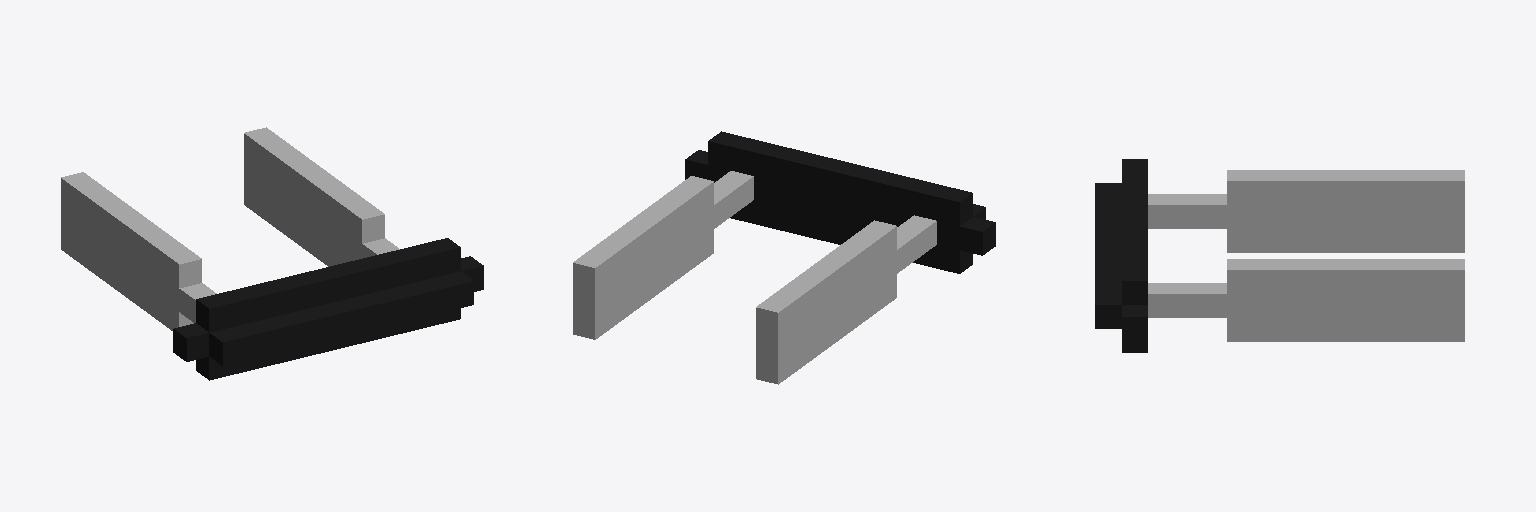
3 renders of one model, left to right at view 1: azimuth 30°, elevation 25°; view 2: azimuth 150°, elevation 25°; view 3: azimuth 270°, elevation 25°, orthographic.
Visible parts, largest first — view 1: object 1; view 2: object 1; view 3: object 1.
Boxes of the visible parts, box(x1,y1,x2,y2) form: object 1: box(61, 127, 483, 380); object 1: box(573, 131, 995, 384); object 1: box(1095, 159, 1464, 352).
Size of the model in its own units: 1.3 by 0.3 by 1.4.
Materials: 1 (1 with a texture image).